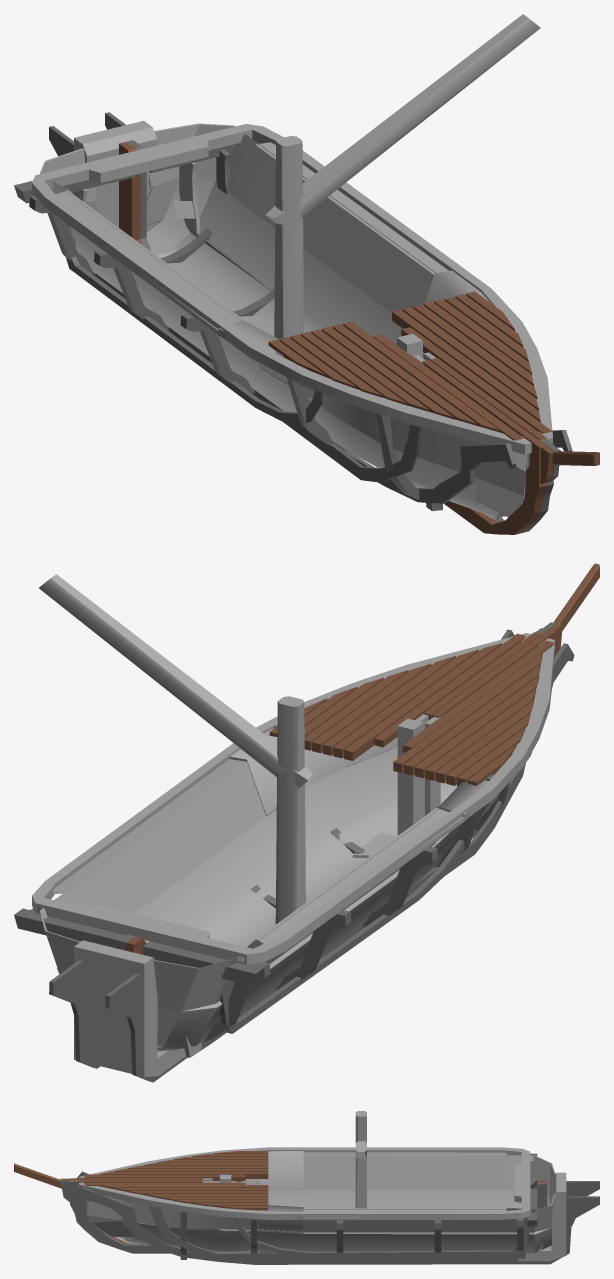
The model's file is Boat.fbx.
3 views of the same model, one above another, from view 1: azimuth 30°, elevation 25°; view 2: azimuth 150°, elevation 25°; view 3: azimuth 270°, elevation 25° (orthographic). The views are drawn at different scales.
Parts seen in each view (by area): view 1: polySurface56; view 2: polySurface56; view 3: polySurface56.
Boxes of the visible parts, <box> form: polySurface56: <box>14,14,599,534</box>; polySurface56: <box>14,563,599,1082</box>; polySurface56: <box>14,1111,599,1264</box>.
Bounding box in the file's own units: 22.41 × 18.27 × 53.74.
